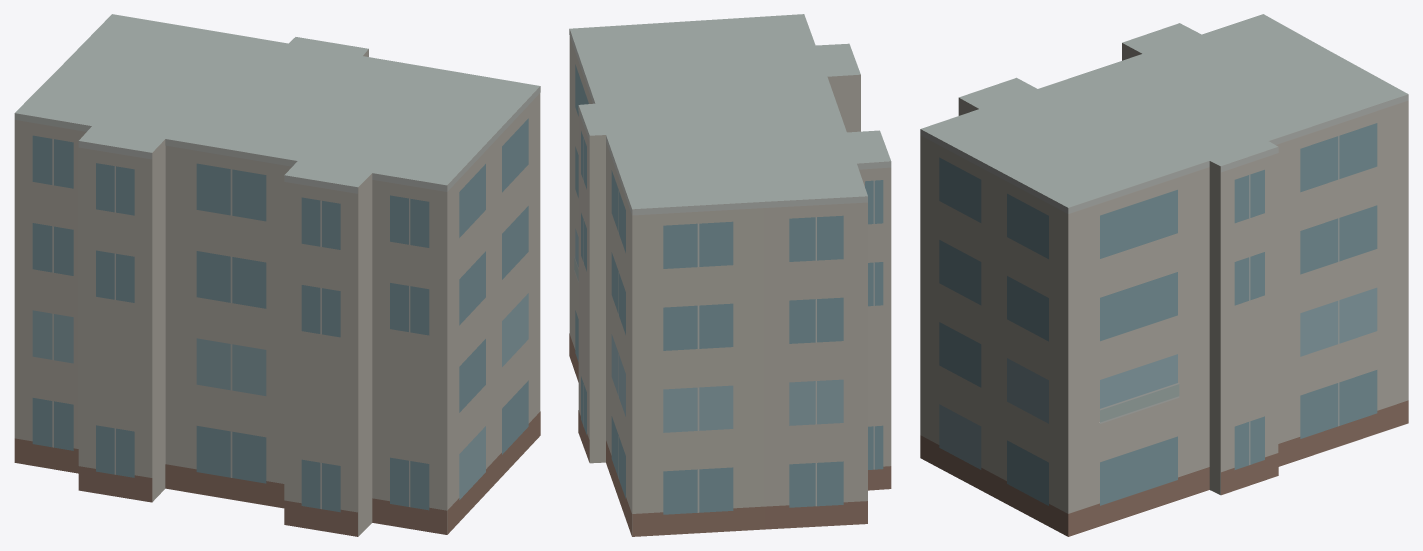
Rendered from survey-upis-32732680.glb.
3 renders of one model, left to right at view 1: azimuth 30°, elevation 25°; view 2: azimuth 150°, elevation 25°; view 3: azimuth 270°, elevation 25°, orthographic. The views are drawn at different scales.
Visible parts, largest first — view 1: survey-upis-32732680.tmp; view 2: survey-upis-32732680.tmp; view 3: survey-upis-32732680.tmp.
Boxes of the visible parts, x1,y1,x2,y2 form: survey-upis-32732680.tmp: [14, 14, 540, 536]; survey-upis-32732680.tmp: [569, 14, 891, 536]; survey-upis-32732680.tmp: [920, 14, 1408, 536].
Bounding box in the file's own units: 16.18 × 12.8 × 17.22.
